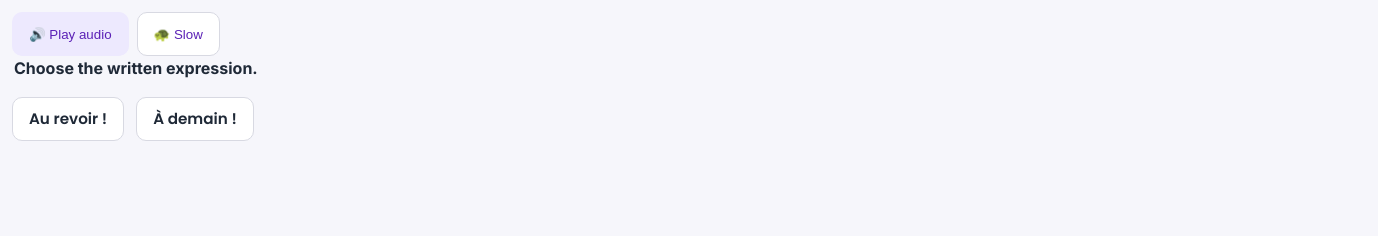
Test case: activity renderers › reinforces listening meaning and usage after a correct answer
The image size is (1378, 236).
Click the button "À demain !" at (195, 119), box 136,97 -> 254,141
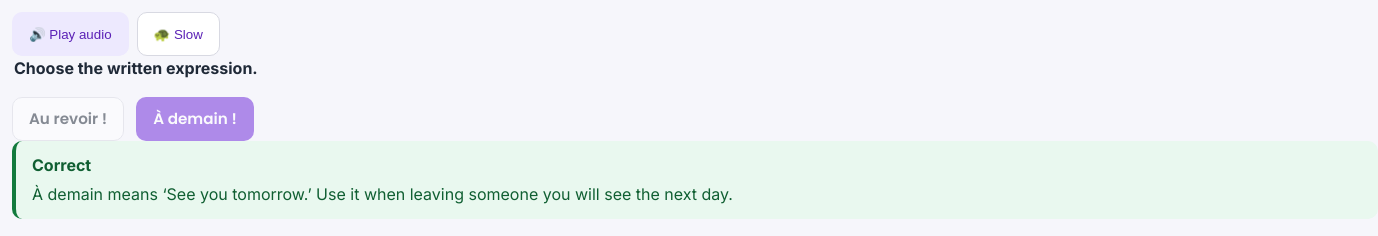
Check: the message shows "See you tomorrow", box 32,184 -> 733,204
Check: the message shows "when leaving", box 32,184 -> 733,204
